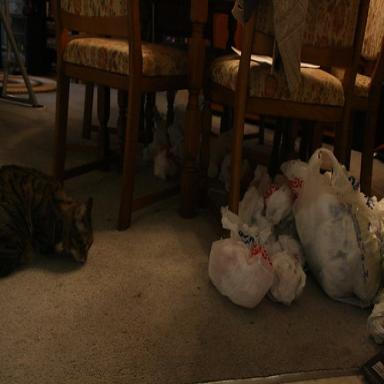plasticbag: (202, 140, 383, 350)
